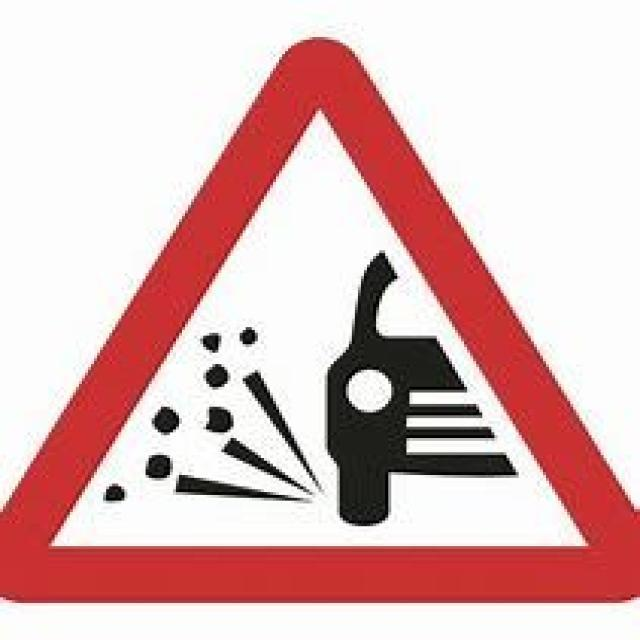loose gravel: (16, 41, 622, 601)
